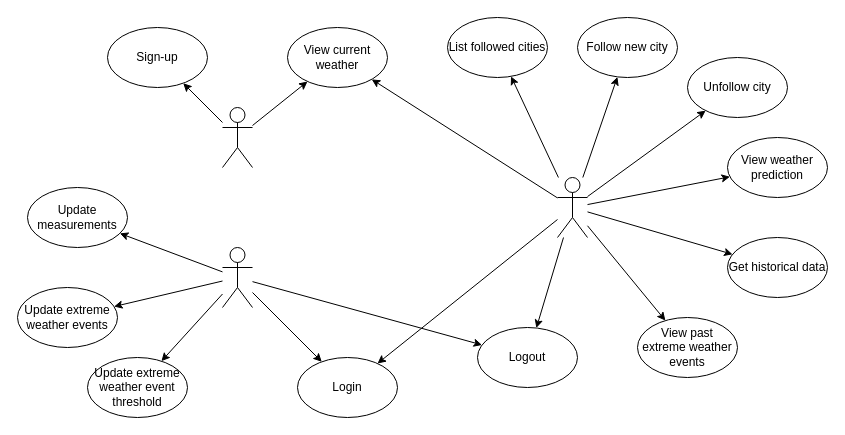
This 845x435 diagram has some shape labels left out. Here are the shapes that lost their labels. From the top down, the box of each, then its label:
(222, 106, 252, 168): Guest
(556, 176, 588, 238): Registered user
(222, 246, 252, 308): Admin
